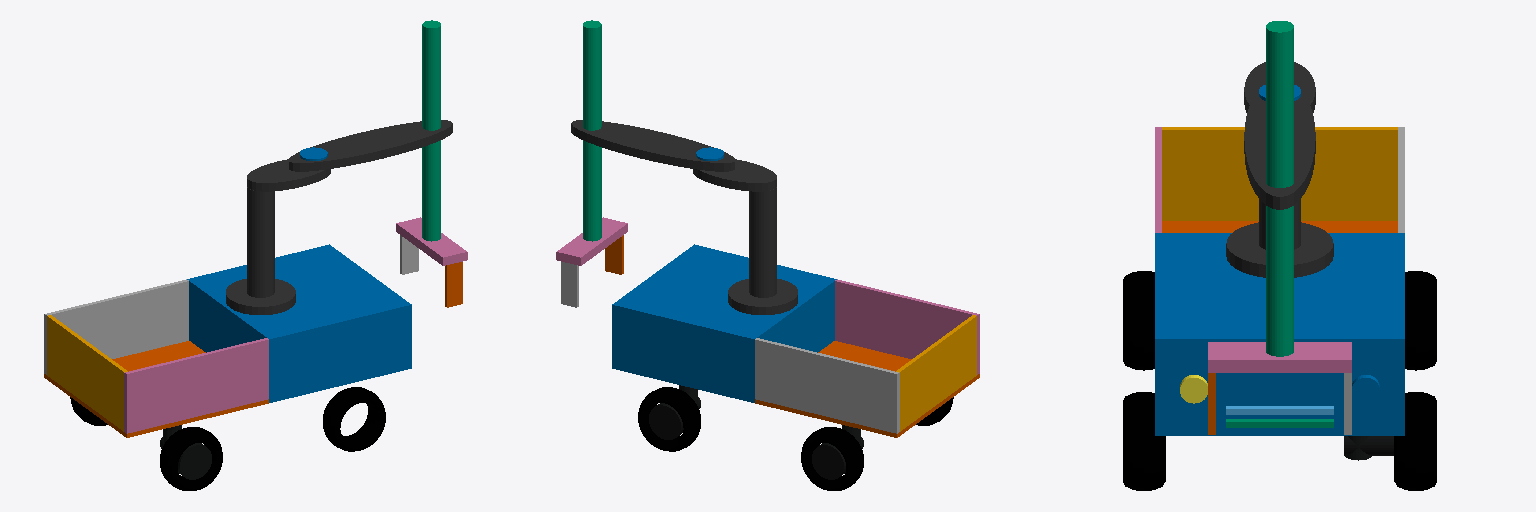
--- What the picture shows (computed from the rendered views, not written in the file) ---
The picture shows the robot from 3 angles, left to right: view 1: azimuth 30°, elevation 25°; view 2: azimuth 150°, elevation 25°; view 3: azimuth 270°, elevation 25°; orthographic projection.
Model robot with 25 links and 24 joints (7 continuous, 3 prismatic, 14 fixed), rooted at body_1_link, posed every joint at zero.
Visible links, largest first — view 1: body_1_link, body_3_link, body_4_link, body_5_link, base_arm_link, arm_3_link, arm_2_link, wheel_letf_front_link, wheel_left_back_link, body_2_link, arm_1_link, gripper_link (+3 smaller); view 2: body_1_link, body_4_link, body_3_link, body_5_link, base_arm_link, arm_3_link, arm_2_link, wheel_right_back_link, wheel_right_front_link, body_2_link, arm_1_link, gripper_link (+4 smaller); view 3: body_1_link, body_5_link, arm_3_link, arm_2_link, gripper_link, base_arm_link, wheel_letf_front_link, wheel_right_front_link, wheel_left_back_link, wheel_right_back_link, body_2_link, arm_1_link (+7 smaller).
Link boxes in pixels (x1=…): body_1_link: x1=187, y1=244, x2=411, y2=402; body_3_link: x1=124, y1=338, x2=268, y2=433; body_4_link: x1=44, y1=279, x2=188, y2=374; body_5_link: x1=47, y1=315, x2=127, y2=431; base_arm_link: x1=226, y1=187, x2=295, y2=314; arm_3_link: x1=422, y1=20, x2=440, y2=241; arm_2_link: x1=289, y1=120, x2=452, y2=171; wheel_letf_front_link: x1=323, y1=387, x2=385, y2=451; wheel_left_back_link: x1=160, y1=427, x2=222, y2=490; body_2_link: x1=44, y1=341, x2=268, y2=437; arm_1_link: x1=247, y1=159, x2=330, y2=191; gripper_link: x1=396, y1=217, x2=467, y2=265; body_1_link: x1=612, y1=244, x2=836, y2=402; body_4_link: x1=755, y1=338, x2=899, y2=433; body_3_link: x1=835, y1=279, x2=979, y2=374; body_5_link: x1=896, y1=315, x2=976, y2=431; base_arm_link: x1=728, y1=187, x2=797, y2=314; arm_3_link: x1=583, y1=20, x2=601, y2=241; arm_2_link: x1=571, y1=120, x2=734, y2=171; wheel_right_back_link: x1=801, y1=427, x2=863, y2=490; wheel_right_front_link: x1=638, y1=387, x2=700, y2=451; body_2_link: x1=755, y1=341, x2=979, y2=437; arm_1_link: x1=693, y1=159, x2=776, y2=191; gripper_link: x1=556, y1=217, x2=627, y2=265; body_1_link: x1=1155, y1=233, x2=1404, y2=435; body_5_link: x1=1162, y1=127, x2=1397, y2=220; arm_3_link: x1=1266, y1=21, x2=1293, y2=356; arm_2_link: x1=1244, y1=82, x2=1315, y2=209; gripper_link: x1=1208, y1=342, x2=1351, y2=372; base_arm_link: x1=1226, y1=199, x2=1333, y2=277; wheel_letf_front_link: x1=1123, y1=392, x2=1165, y2=490; wheel_right_front_link: x1=1394, y1=392, x2=1436, y2=490; wheel_left_back_link: x1=1123, y1=271, x2=1154, y2=370; wheel_right_back_link: x1=1405, y1=271, x2=1436, y2=370; body_2_link: x1=1162, y1=221, x2=1397, y2=232; arm_1_link: x1=1244, y1=62, x2=1315, y2=112.
Bounding box of the posed robot: 4.5 × 2.2 × 4.25 m (x, y, z).
Meshes: 11 distinct files referenced, 10 mesh visuals loaded (10 Collada DAE); not drawn: 1 (reference not matched to a file when rendering).

URDF robot description (robot):
<robot name="robot" version="1.0">
  <joint name="Torus1_link_joint" type="continuous">
    <limit lower="0" upper="0" effort="0.00000" velocity="0.00000" />
    <origin rpy="1.57080 0.00000 0.00000" xyz="-0.00000 0.18824 -0.04412" />
    <parent link="leg_right_front_link" />
    <child link="wheel_right_front_link" />
    <axis xyz="0.00000 0.00000 1.00000" />
  </joint>
  <joint name="Torus2_link_joint" type="continuous">
    <limit lower="0" upper="0" effort="0.00000" velocity="0.00000" />
    <origin rpy="1.57080 0.00000 0.00000" xyz="0.00000 0.18824 -0.04412" />
    <parent link="leg_right_back_link" />
    <child link="wheel_right_back_link" />
    <axis xyz="0.00000 0.00000 1.00000" />
  </joint>
  <joint name="Torus3_link_joint" type="continuous">
    <limit lower="0" upper="0" effort="0.00000" velocity="0.00000" />
    <origin rpy="1.57080 0.00000 3.14159" xyz="0.00000 0.18824 -0.04412" />
    <parent link="leg_left_back_link" />
    <child link="wheel_left_back_link" />
    <axis xyz="0.00000 0.00000 1.00000" />
  </joint>
  <joint name="Torus4_link_joint" type="continuous">
    <limit lower="0" upper="0" effort="0.00000" velocity="0.00000" />
    <origin rpy="1.57080 0.00000 3.14159" xyz="0.00000 0.18824 -0.04412" />
    <parent link="leg_letf_front_link" />
    <child link="wheel_letf_front_link" />
    <axis xyz="0.00000 0.00000 1.00000" />
  </joint>
  <joint name="arm.1_link_joint" type="continuous">
    <limit lower="0" upper="0" effort="0.00000" velocity="0.00000" />
    <origin rpy="0.00000 0.00000 0.00000" xyz="0.00000 -0.00000 0.82869" />
    <parent link="base_arm_link" />
    <child link="arm_1_link" />
    <axis xyz="0.00000 0.00000 1.00000" />
  </joint>
  <joint name="arm.2_link_joint" type="continuous">
    <limit lower="0" upper="0" effort="0.00000" velocity="0.00000" />
    <origin rpy="0.00000 0.00000 0.00000" xyz="0.00000 0.00000 0.05000" />
    <parent link="visual_elbow_link" />
    <child link="arm_2_link" />
    <axis xyz="0.00000 0.00000 1.00000" />
  </joint>
  <joint name="arm_3_link_joint" type="prismatic">
    <limit lower="-1.15000" upper="1.15000" effort="0.00000" velocity="0.00000" />
    <origin rpy="0.00000 0.00000 0.00000" xyz="1.45000 0.00000 0.00000" />
    <parent link="arm_2_link" />
    <child link="arm_3_link" />
    <axis xyz="0.00000 0.00000 1.00000" />
  </joint>
  <joint name="base_link_joint" type="fixed">
    <origin rpy="0.00000 0.00000 0.00000" xyz="-0.47500 0.00000 0.95586" />
    <parent link="body_1_link" />
    <child link="base_arm_link" />
  </joint>
  <joint name="body_2_link_joint" type="fixed">
    <origin rpy="0.00000 0.00000 0.00000" xyz="-1.75000 0.00000 -0.34995" />
    <parent link="body_1_link" />
    <child link="body_2_link" />
  </joint>
  <joint name="body_3_link_joint" type="fixed">
    <origin rpy="1.57080 0.00000 0.00000" xyz="-1.75000 -0.85000 0.02505" />
    <parent link="body_1_link" />
    <child link="body_3_link" />
  </joint>
  <joint name="body_4_link_joint" type="fixed">
    <origin rpy="1.57080 0.00000 0.00000" xyz="-1.75000 0.85000 0.02505" />
    <parent link="body_1_link" />
    <child link="body_4_link" />
  </joint>
  <joint name="body_5_link_joint" type="fixed">
    <origin rpy="1.57080 0.00000 1.57080" xyz="-2.60000 0.00000 0.02505" />
    <parent link="body_1_link" />
    <child link="body_5_link" />
  </joint>
  <joint name="detail_1_link_joint" type="fixed">
    <origin rpy="0.00000 0.00000 0.00000" xyz="0.90000 0.00000 -0.16545" />
    <parent link="body_1_link" />
    <child link="detail_1_link" />
  </joint>
  <joint name="detail_2_link_joint" type="fixed">
    <origin rpy="0.00000 0.00000 0.00000" xyz="0.90000 0.00000 -0.26545" />
    <parent link="body_1_link" />
    <child link="detail_2_link" />
  </joint>
  <joint name="detail_3_link_joint" type="fixed">
    <origin rpy="-0.00000 1.57080 0.00000" xyz="0.90000 -0.60000 0.00000" />
    <parent link="body_1_link" />
    <child link="detail_3_link" />
  </joint>
  <joint name="detail_4_link_joint" type="fixed">
    <origin rpy="-0.00000 1.57080 0.00000" xyz="0.90000 0.60000 0.00000" />
    <parent link="body_1_link" />
    <child link="detail_4_link" />
  </joint>
  <joint name="gripper_left_link_joint" type="prismatic">
    <limit lower="0.00000" upper="0.30000" effort="0.00000" velocity="0.00000" />
    <origin rpy="-1.57080 0.00000 0.00000" xyz="-0.00000 -0.47500 -0.30000" />
    <parent link="gripper_link" />
    <child link="gripper_left_link" />
    <axis xyz="0.00000 0.00000 1.00000" />
  </joint>
  <joint name="gripper_link_joint" type="continuous">
    <limit lower="0" upper="0" effort="0.00000" velocity="0.00000" />
    <origin rpy="0.00000 0.00000 0.00000" xyz="0.00000 0.00000 -1.30000" />
    <parent link="arm_3_link" />
    <child link="gripper_link" />
    <axis xyz="0.00000 0.00000 1.00000" />
  </joint>
  <joint name="gripper_right_link_joint" type="prismatic">
    <limit lower="0.00000" upper="0.30000" effort="0.00000" velocity="0.00000" />
    <origin rpy="1.57080 0.00000 0.00000" xyz="-0.00000 0.47500 -0.30000" />
    <parent link="gripper_link" />
    <child link="gripper_right_link" />
    <axis xyz="0.00000 0.00000 1.00000" />
  </joint>
  <joint name="rueda1_link_joint" type="fixed">
    <origin rpy="0.00000 0.00000 0.00000" xyz="0.12500 0.76176 -0.72133" />
    <parent link="body_1_link" />
    <child link="leg_right_front_link" />
  </joint>
  <joint name="rueda2_link_joint" type="fixed">
    <origin rpy="0.00000 0.00000 0.00000" xyz="-1.87500 0.76176 -0.72133" />
    <parent link="body_1_link" />
    <child link="leg_right_back_link" />
  </joint>
  <joint name="rueda3_link_joint" type="fixed">
    <origin rpy="0.00000 0.00000 -3.14159" xyz="-1.87500 -0.76176 -0.72133" />
    <parent link="body_1_link" />
    <child link="leg_left_back_link" />
  </joint>
  <joint name="rueda4_link_joint" type="fixed">
    <origin rpy="0.00000 0.00000 -3.14159" xyz="0.12500 -0.76176 -0.72133" />
    <parent link="body_1_link" />
    <child link="leg_letf_front_link" />
  </joint>
  <joint name="visual_elbow_link_joint" type="fixed">
    <origin rpy="0.00000 0.00000 0.00000" xyz="0.65000 -0.00000 0.05000" />
    <parent link="arm_1_link" />
    <child link="visual_elbow_link" />
  </joint>
  <link name="arm_1_link">
    <inertial>
      <inertia ixx="0.03272" ixy="0.00000" ixz="-0.00000" iyy="0.12587" iyz="0.00000" izz="0.15525" />
      <origin rpy="0.00000 0.00000 0.00000" xyz="0.35000 -0.00000 -0.00000" />
      <mass value="2.00000" />
    </inertial>
    <visual name="arm_1">
      <origin rpy="0.00000 0.00000 0.00000" xyz="0.35000 0.00000 -0.00000" />
      <material name="Material.018" />
      <geometry>
        <mesh filename="../meshes/dae/arm_1.dae" scale="0.50000 0.25000 0.05000" />
      </geometry>
    </visual>
  </link>
  <link name="arm_2_link">
    <collision name="arm_2_collision">
      <origin rpy="0.00000 0.00000 0.00000" xyz="0.70000 0.00000 0.00000" />
      <geometry>
        <mesh filename="../meshes/dae/arm_2.dae" scale="1.00000 0.25000 0.05000" />
      </geometry>
    </collision>
    <inertial>
      <inertia ixx="0.03272" ixy="-0.00000" ixz="-0.00000" iyy="0.49846" iyz="0.00000" izz="0.52785" />
      <origin rpy="0.00000 0.00000 0.00000" xyz="0.70000 -0.00000 0.00000" />
      <mass value="2.00000" />
    </inertial>
    <visual name="arm_2">
      <origin rpy="0.00000 0.00000 0.00000" xyz="0.70000 0.00000 0.00000" />
      <material name="Material.016" />
      <geometry>
        <mesh filename="../meshes/dae/arm_2.dae" scale="1.00000 0.25000 0.05000" />
      </geometry>
    </visual>
  </link>
  <link name="arm_3_link">
    <inertial>
      <inertia ixx="2.09333" ixy="0.00000" ixz="0.00000" iyy="2.09333" iyz="0.00000" izz="0.02000" />
      <origin rpy="0.00000 0.00000 0.00000" xyz="0.00000 0.00000 0.00000" />
      <mass value="4.00000" />
    </inertial>
    <visual name="arm_3">
      <origin rpy="0.00000 0.00000 0.00000" xyz="0.00000 0.00000 0.00000" />
      <material name="Material.020" />
      <geometry>
        <cylinder radius="0.10000" length="2.50000" />
      </geometry>
    </visual>
  </link>
  <link name="base_arm_link">
    <collision name="base_arm_collision">
      <origin rpy="0.00000 0.00000 0.00000" xyz="0.00000 -0.00000 0.00000" />
      <geometry>
        <mesh filename="../meshes/dae/base_arm.dae" scale="0.37500 0.37500 0.05000" />
      </geometry>
    </collision>
    <inertial>
      <inertia ixx="15.95192" ixy="-0.00000" ixz="0.00000" iyy="15.95192" iyz="-0.00000"
        izz="3.50969" />
      <origin rpy="0.00000 0.00000 0.00000" xyz="0.00000 -0.00000 -0.07130" />
      <mass value="100.00000" />
    </inertial>
    <visual name="base_arm">
      <origin rpy="0.00000 0.00000 0.00000" xyz="0.00000 0.00000 0.00000" />
      <material name="Material.019" />
      <geometry>
        <mesh filename="../meshes/dae/base_arm.dae" scale="0.37500 0.37500 0.05000" />
      </geometry>
    </visual>
  </link>
  <link name="body_1_link">
    <collision name="body_1_collision">
      <origin rpy="0.00000 0.00000 0.00000" xyz="0.00000 0.00000 0.00000" />
      <geometry>
        <mesh filename="../meshes/dae/Cube.dae" scale="0.87500 0.87500 0.37500" />
      </geometry>
    </collision>
    <visual name="body_1">
      <origin rpy="0.00000 0.00000 0.00000" xyz="0.00000 0.00000 0.00000" />
      <material name="Material.026" />
      <geometry>
        <box size="1.75000 1.75000 0.75000" />
      </geometry>
    </visual>
  </link>
  <link name="body_2_link">
    <collision name="body_2_collision">
      <origin rpy="0.00000 0.00000 0.00000" xyz="-0.00000 0.00000 0.00000" />
      <geometry>
        <box size="1.75000 1.75000 0.05000" />
      </geometry>
    </collision>
    <inertial>
      <inertia ixx="51.08333" ixy="0.00000" ixz="0.00000" iyy="51.08333" iyz="0.00000"
        izz="102.08333" />
      <origin rpy="0.00000 0.00000 0.00000" xyz="-0.00000 0.00000 0.00000" />
      <mass value="200.00000" />
    </inertial>
    <visual name="body_2">
      <origin rpy="0.00000 0.00000 0.00000" xyz="-0.00000 0.00000 0.00000" />
      <material name="Material.025" />
      <geometry>
        <box size="1.75000 1.75000 0.05000" />
      </geometry>
    </visual>
  </link>
  <link name="body_3_link">
    <collision name="body_3_collision">
      <origin rpy="0.00000 0.00000 0.00000" xyz="-0.00000 0.00000 0.00000" />
      <geometry>
        <box size="1.75000 0.70000 0.05000" />
      </geometry>
    </collision>
    <inertial>
      <inertia ixx="8.20833" ixy="0.00000" ixz="0.00000" iyy="59.20833" iyz="0.00000" izz="51.08333" />
      <origin rpy="0.00000 0.00000 0.00000" xyz="-0.00000 0.00000 0.00000" />
      <mass value="200.00000" />
    </inertial>
    <visual name="body_3">
      <origin rpy="0.00000 0.00000 0.00000" xyz="-0.00000 0.00000 0.00000" />
      <material name="Material.027" />
      <geometry>
        <box size="1.75000 0.70000 0.05000" />
      </geometry>
    </visual>
  </link>
  <link name="body_4_link">
    <collision name="body_4_collision">
      <origin rpy="0.00000 0.00000 0.00000" xyz="-0.00000 0.00000 0.00000" />
      <geometry>
        <box size="1.75000 0.70000 0.05000" />
      </geometry>
    </collision>
    <inertial>
      <inertia ixx="8.20833" ixy="0.00000" ixz="0.00000" iyy="59.20833" iyz="0.00000" izz="51.08333" />
      <origin rpy="0.00000 0.00000 0.00000" xyz="-0.00000 0.00000 0.00000" />
      <mass value="200.00000" />
    </inertial>
    <visual name="body_4">
      <origin rpy="0.00000 0.00000 0.00000" xyz="-0.00000 0.00000 0.00000" />
      <material name="Material.028" />
      <geometry>
        <box size="1.75000 0.70000 0.05000" />
      </geometry>
    </visual>
  </link>
  <link name="body_5_link">
    <collision name="body_5_collision">
      <origin rpy="0.00000 0.00000 0.00000" xyz="-0.00000 0.00000 -0.00000" />
      <geometry>
        <box size="1.65000 0.70000 0.05000" />
      </geometry>
    </collision>
    <inertial>
      <inertia ixx="53.54167" ixy="-0.00001" ixz="0.00000" iyy="8.20833" iyz="0.00001"
        izz="45.41667" />
      <origin rpy="0.00000 0.00000 0.00000" xyz="-0.00000 0.00000 -0.00000" />
      <mass value="200.00000" />
    </inertial>
    <visual name="body_5">
      <origin rpy="0.00000 0.00000 0.00000" xyz="-0.00000 0.00000 -0.00000" />
      <material name="Material.029" />
      <geometry>
        <box size="1.65000 0.70000 0.05000" />
      </geometry>
    </visual>
  </link>
  <link name="detail_1_link">
    <visual name="detail_1">
      <origin rpy="0.00000 0.00000 0.00000" xyz="0.00000 0.00000 0.00000" />
      <material name="Material.034" />
      <geometry>
        <box size="0.05000 0.75000 0.05000" />
      </geometry>
    </visual>
  </link>
  <link name="detail_2_link">
    <visual name="detail_2">
      <origin rpy="0.00000 0.00000 0.00000" xyz="0.00000 0.00000 0.00000" />
      <material name="Material.035" />
      <geometry>
        <box size="0.05000 0.75000 0.05000" />
      </geometry>
    </visual>
  </link>
  <link name="detail_3_link">
    <visual name="detail_4">
      <origin rpy="0.00000 0.00000 0.00000" xyz="-0.00000 0.00000 -0.00000" />
      <material name="Material.033" />
      <geometry>
        <cylinder radius="0.10000" length="0.05000" />
      </geometry>
    </visual>
  </link>
  <link name="detail_4_link">
    <visual name="detail_3">
      <origin rpy="0.00000 0.00000 0.00000" xyz="-0.00000 0.00000 -0.00000" />
      <material name="Material.032" />
      <geometry>
        <cylinder radius="0.10000" length="0.05000" />
      </geometry>
    </visual>
  </link>
  <link name="gripper_left_link">
    <collision name="gripper_left_collision">
      <origin rpy="-0.00000 0.00000 0.00000" xyz="-0.00000 -0.00000 0.00000" />
      <geometry>
        <mesh filename="../meshes/dae/gripper_left.dae" scale="0.10000 0.25000 0.02500" />
      </geometry>
    </collision>
    <visual name="gripper_left">
      <origin rpy="-0.00000 0.00000 0.00000" xyz="-0.00000 -0.00000 0.00000" />
      <material name="Material.023" />
      <geometry>
        <box size="0.20000 0.50000 0.05000" />
      </geometry>
    </visual>
  </link>
  <link name="gripper_link">
    <collision name="gripper_collision">
      <origin rpy="0.00000 0.00000 0.00000" xyz="-0.00000 0.00000 0.00000" />
      <geometry>
        <mesh filename="../meshes/dae/gripper.dae" scale="0.15000 0.50000 0.05000" />
      </geometry>
    </collision>
    <inertial>
      <inertia ixx="0.16833" ixy="0.00000" ixz="0.00000" iyy="0.01667" iyz="0.00000" izz="0.18167" />
      <origin rpy="0.00000 0.00000 0.00000" xyz="-0.00000 0.00000 0.00000" />
      <mass value="2.00000" />
    </inertial>
    <visual name="gripper">
      <origin rpy="0.00000 0.00000 0.00000" xyz="-0.00000 0.00000 -0.00000" />
      <material name="Material.021" />
      <geometry>
        <box size="0.30000 1.00000 0.10000" />
      </geometry>
    </visual>
  </link>
  <link name="gripper_right_link">
    <collision name="gripper_right_collision">
      <origin rpy="0.00000 0.00000 0.00000" xyz="-0.00000 0.00000 0.00000" />
      <geometry>
        <mesh filename="../meshes/dae/gripper_right.dae" scale="0.10000 0.25000 0.02500" />
      </geometry>
    </collision>
    <inertial>
      <inertia ixx="0.04208" ixy="0.00000" ixz="0.00000" iyy="0.04833" iyz="0.00000" izz="0.00708" />
      <origin rpy="0.00000 0.00000 0.00000" xyz="-0.00000 0.00000 0.00000" />
      <mass value="2.00000" />
    </inertial>
    <visual name="gripper_right">
      <origin rpy="0.00000 0.00000 0.00000" xyz="-0.00000 0.00000 0.00000" />
      <material name="Material.022" />
      <geometry>
        <box size="0.20000 0.50000 0.05000" />
      </geometry>
    </visual>
  </link>
  <link name="leg_left_back_link">
    <collision name="leg_left_back_collision">
      <origin rpy="0.00000 0.00000 -0.00000" xyz="-0.00000 -0.00000 -0.00000" />
      <geometry>
        <mesh filename="../meshes/dae/leg_left_back.dae" scale="0.10000 0.10000 0.25000" />
      </geometry>
    </collision>
    <inertial>
      <inertia ixx="0.24308" ixy="0.00000" ixz="0.00000" iyy="0.10269" iyz="-0.04235" izz="0.19817" />
      <origin rpy="0.00000 0.00000 0.00000" xyz="0.00000 -0.00000 0.00000" />
      <mass value="5.00000" />
    </inertial>
    <visual name="leg_left_back">
      <origin rpy="0.00000 0.00000 0.00000" xyz="0.00000 0.00000 0.00000" />
      <material name="Material.011" />
      <geometry>
        <mesh filename="../meshes/dae/leg_left_back.dae" scale="0.10000 0.10000 0.25000" />
      </geometry>
    </visual>
  </link>
  <link name="leg_letf_front_link">
    <collision name="leg_left_front_collision">
      <origin rpy="0.00000 0.00000 -0.00000" xyz="0.00000 0.00000 -0.00000" />
      <geometry>
        <mesh filename="../meshes/dae/leg_letf_front.dae" scale="0.10000 0.10000 0.25000" />
      </geometry>
    </collision>
    <inertial>
      <inertia ixx="0.24308" ixy="0.00000" ixz="0.00000" iyy="0.10269" iyz="-0.04235" izz="0.19817" />
      <origin rpy="0.00000 0.00000 0.00000" xyz="-0.00000 0.00000 -0.00000" />
      <mass value="5.00000" />
    </inertial>
    <visual name="leg_letf_front">
      <origin rpy="0.00000 0.00000 0.00000" xyz="0.00000 0.00000 0.00000" />
      <material name="Material.014" />
      <geometry>
        <mesh filename="../meshes/dae/leg_letf_front.dae" scale="0.10000 0.10000 0.25000" />
      </geometry>
    </visual>
  </link>
  <link name="leg_right_back_link">
    <collision name="leg_right_back_collision">
      <origin rpy="0.00000 0.00000 0.00000" xyz="0.00000 0.00000 -0.00000" />
      <geometry>
        <mesh filename="../meshes/dae/leg_right_back.dae" scale="0.10000 0.10000 0.25000" />
      </geometry>
    </collision>
    <inertial>
      <inertia ixx="0.24308" ixy="0.00000" ixz="-0.00000" iyy="0.10269" iyz="0.04235" izz="0.19817" />
      <origin rpy="0.00000 0.00000 0.00000" xyz="-0.00000 -0.00000 0.00000" />
      <mass value="5.00000" />
    </inertial>
    <visual name="leg_right_back">
      <origin rpy="0.00000 0.00000 0.00000" xyz="0.00000 0.00000 0.00000" />
      <material name="Material.003" />
      <geometry>
        <mesh filename="../meshes/dae/leg_right_back.dae" scale="0.10000 0.10000 0.25000" />
      </geometry>
    </visual>
  </link>
  <link name="leg_right_front_link">
    <inertial>
      <inertia ixx="0.24308" ixy="0.00000" ixz="-0.00000" iyy="0.10269" iyz="0.04235" izz="0.19817" />
      <origin rpy="0.00000 0.00000 0.00000" xyz="0.00000 -0.00000 0.00000" />
      <mass value="5.00000" />
    </inertial>
    <visual name="leg_right_front">
      <origin rpy="0.00000 0.00000 0.00000" xyz="0.00000 0.00000 0.00000" />
      <material name="Material.007" />
      <geometry>
        <mesh filename="../meshes/dae/leg_right_front.dae" scale="0.10000 0.10000 0.25000" />
      </geometry>
    </visual>
  </link>
  <link name="visual_elbow_link">
    <inertial>
      <inertia ixx="0.02167" ixy="0.00000" ixz="0.00000" iyy="0.02167" iyz="0.00000" izz="0.02250" />
      <origin rpy="0.00000 0.00000 0.00000" xyz="0.00000 0.00000 0.00000" />
      <mass value="2.00000" />
    </inertial>
    <visual name="visual_elbow">
      <origin rpy="0.00000 0.00000 0.00000" xyz="0.00000 0.00000 0.00000" />
      <material name="Material" />
      <geometry>
        <cylinder radius="0.15000" length="0.25000" />
      </geometry>
    </visual>
  </link>
  <link name="wheel_left_back_link">
    <collision name="wheel_left_back_collision">
      <origin rpy="-0.00000 0.00000 0.00000" xyz="0.00000 -0.00000 -0.00000" />
      <geometry>
        <mesh filename="../meshes/dae/wheel_left_back.dae" scale="0.28000 0.28000 0.60000" />
      </geometry>
    </collision>
    <inertial>
      <inertia ixx="0.16584" ixy="0.00000" ixz="0.00000" iyy="0.28737" iyz="0.00000" izz="0.16584" />
      <origin rpy="0.00000 0.00000 0.00000" xyz="-0.00000 -0.00000 -0.00000" />
      <mass value="5.00000" />
    </inertial>
    <visual name="wheel_left_back">
      <origin rpy="-0.00000 0.00000 0.00000" xyz="0.00000 -0.00000 -0.00000" />
      <material name="Material.012" />
      <geometry>
        <mesh filename="../meshes/dae/wheel_left_back.dae" scale="0.28000 0.28000 0.60000" />
      </geometry>
    </visual>
  </link>
  <link name="wheel_letf_front_link">
    <collision name="wheel_left_front_collision">
      <origin rpy="-0.00000 0.00000 0.00000" xyz="0.00000 -0.00000 -0.00000" />
      <geometry>
        <mesh filename="../meshes/dae/wheel_left_front.dae" scale="0.28000 0.28000 0.60000" />
      </geometry>
    </collision>
    <inertial>
      <inertia ixx="0.16584" ixy="0.00000" ixz="0.00000" iyy="0.28737" iyz="0.00000" izz="0.16584" />
      <origin rpy="0.00000 0.00000 0.00000" xyz="0.00000 -0.00000 -0.00000" />
      <mass value="5.00000" />
    </inertial>
    <visual name="wheel_left_front">
      <origin rpy="-0.00000 0.00000 0.00000" xyz="0.00000 -0.00000 -0.00000" />
      <material name="Material.017" />
      <geometry>
        <mesh filename="../meshes/dae/wheel_left_front.dae" scale="0.28000 0.28000 0.60000" />
      </geometry>
    </visual>
  </link>
  <link name="wheel_right_back_link">
    <collision name="wheel_right_back_collision">
      <origin rpy="-0.00000 0.00000 0.00000" xyz="0.00000 0.00000 0.00000" />
      <geometry>
        <mesh filename="../meshes/dae/wheel_right_back.dae" scale="0.28000 0.28000 0.60000" />
      </geometry>
    </collision>
    <inertial>
      <inertia ixx="0.16584" ixy="0.00000" ixz="0.00000" iyy="0.28737" iyz="0.00000" izz="0.16584" />
      <origin rpy="0.00000 0.00000 0.00000" xyz="-0.00000 -0.00000 0.00000" />
      <mass value="5.00000" />
    </inertial>
    <visual name="wheel_right_back">
      <origin rpy="-0.00000 0.00000 0.00000" xyz="0.00000 -0.00000 0.00000" />
      <material name="Material.002" />
      <geometry>
        <mesh filename="../meshes/dae/wheel_right_back.dae" scale="0.28000 0.28000 0.60000" />
      </geometry>
    </visual>
  </link>
  <link name="wheel_right_front_link">
    <collision name="wheel_right_front_collision">
      <origin rpy="-0.00000 0.00000 0.00000" xyz="-0.00000 0.00000 0.00000" />
      <geometry>
        <mesh filename="../meshes/dae/wheel_right_front.dae" scale="0.28000 0.28000 0.60000" />
      </geometry>
    </collision>
    <inertial>
      <inertia ixx="0.16584" ixy="0.00000" ixz="0.00000" iyy="0.28737" iyz="0.00000" izz="0.16584" />
      <origin rpy="0.00000 0.00000 0.00000" xyz="0.00000 -0.00000 0.00000" />
      <mass value="5.00000" />
    </inertial>
    <visual name="wheel_right_front">
      <origin rpy="-0.00000 0.00000 0.00000" xyz="-0.00000 -0.00000 0.00000" />
      <material name="Material.001" />
      <geometry>
        <mesh filename="../meshes/dae/wheel_right_front.dae" scale="0.28000 0.28000 0.60000" />
      </geometry>
    </visual>
  </link>
  <!-- <material name="Material">
    <color rgba="0.23137 0.23137 0.23137 1.00000" />
  </material>
  <material name="Material.001">
    <color rgba="0.00000 0.00000 0.00000 1.00000" />
  </material>
  <material name="Material.002">
    <color rgba="0.00000 0.00000 0.00000 1.00000" />
  </material>
  <material name="Material.003">
    <color rgba="0.11765 0.12549 0.12549 1.00000" />
  </material>
  <material name="Material.007">
    <color rgba="0.11765 0.12549 0.12549 1.00000" />
  </material>
  <material name="Material.011">
    <color rgba="0.11765 0.12549 0.12549 1.00000" />
  </material>
  <material name="Material.012">
    <color rgba="0.00000 0.00000 0.00000 1.00000" />
  </material>
  <material name="Material.014">
    <color rgba="0.11765 0.12549 0.12549 1.00000" />
  </material>
  <material name="Material.016">
    <color rgba="0.23137 0.23137 0.23137 1.00000" />
  </material>
  <material name="Material.017">
    <color rgba="0.00000 0.00000 0.00000 1.00000" />
  </material>
  <material name="Material.018">
    <color rgba="0.23137 0.23137 0.23137 1.00000" />
  </material>
  <material name="Material.019">
    <color rgba="0.23137 0.23137 0.23137 1.00000" />
  </material>
  <material name="Material.020">
    <color rgba="0.23137 0.23137 0.23137 1.00000" />
  </material>
  <material name="Material.021">
    <color rgba="0.23137 0.23137 0.23137 1.00000" />
  </material>
  <material name="Material.022">
    <color rgba="0.23137 0.23137 0.23137 1.00000" />
  </material>
  <material name="Material.023">
    <color rgba="0.23137 0.23137 0.23137 1.00000" />
  </material>
  <material name="Material.025">
    <color rgba="0.00000 0.00000 1.00000 1.00000" />
  </material>
  <material name="Material.026">
    <color rgba="0.00000 0.00000 1.00000 1.00000" />
  </material>
  <material name="Material.027">
    <color rgba="0.00000 0.00000 1.00000 1.00000" />
  </material>
  <material name="Material.028">
    <color rgba="0.00000 0.00000 1.00000 1.00000" />
  </material>
  <material name="Material.029">
    <color rgba="0.00000 0.00000 1.00000 1.00000" />
  </material>
  <material name="Material.032">
    <color rgba="1.00000 1.00000 0.00000 1.00000" />
  </material>
  <material name="Material.033">
    <color rgba="1.00000 1.00000 0.00000 1.00000" />
  </material>
  <material name="Material.034">
    <color rgba="0.00000 0.00000 0.00000 1.00000" />
  </material>
  <material name="Material.035">
    <color rgba="0.00000 0.00000 0.00000 1.00000" />
  </material> -->
</robot>
